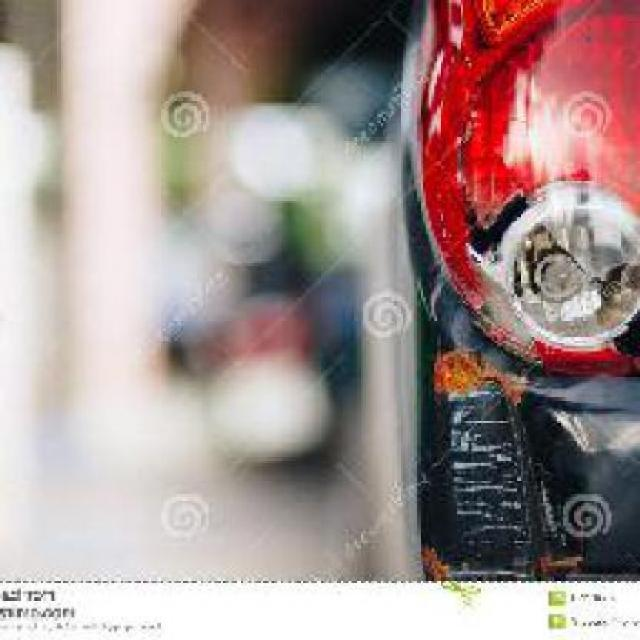damaged-tail-light: (412, 6, 638, 580)
